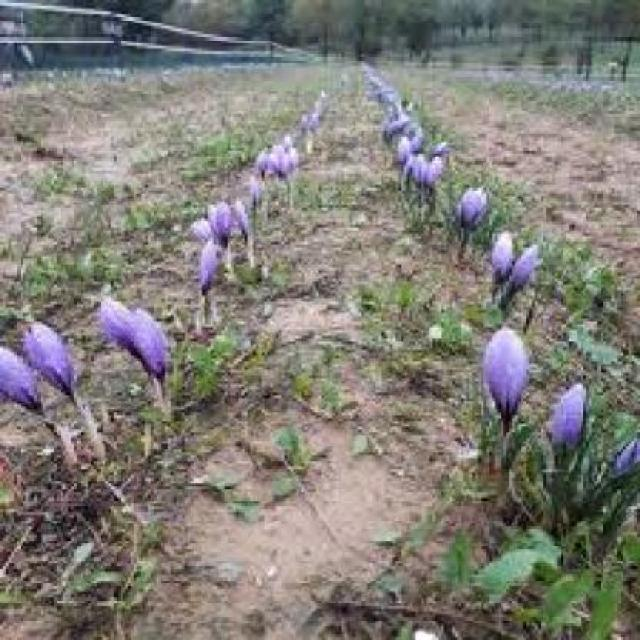saffron closed: (482, 328, 529, 421), (24, 322, 75, 397), (131, 309, 169, 382), (0, 346, 40, 409), (548, 384, 586, 446), (99, 296, 136, 355), (511, 245, 540, 289), (198, 240, 221, 294), (491, 231, 514, 284), (208, 201, 234, 246), (231, 199, 249, 238)
saffron open: (455, 188, 489, 231)
